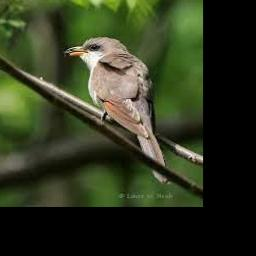Cuckoo: (65, 37, 170, 185)
